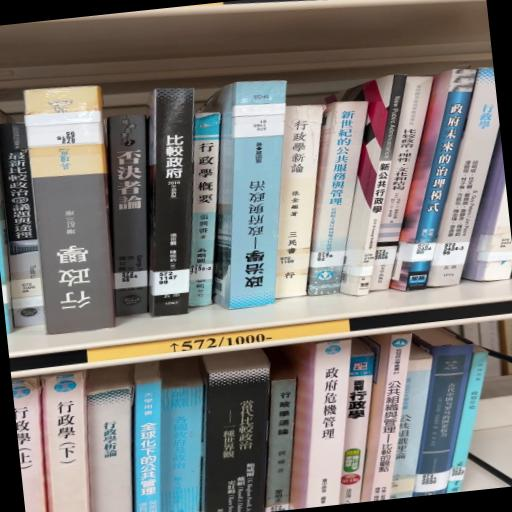reverse: (25, 87, 116, 335), (199, 82, 287, 310)
